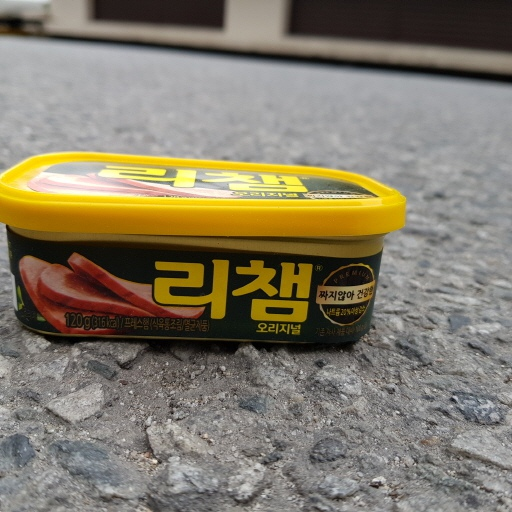Metal_2: (1, 144, 408, 357)
